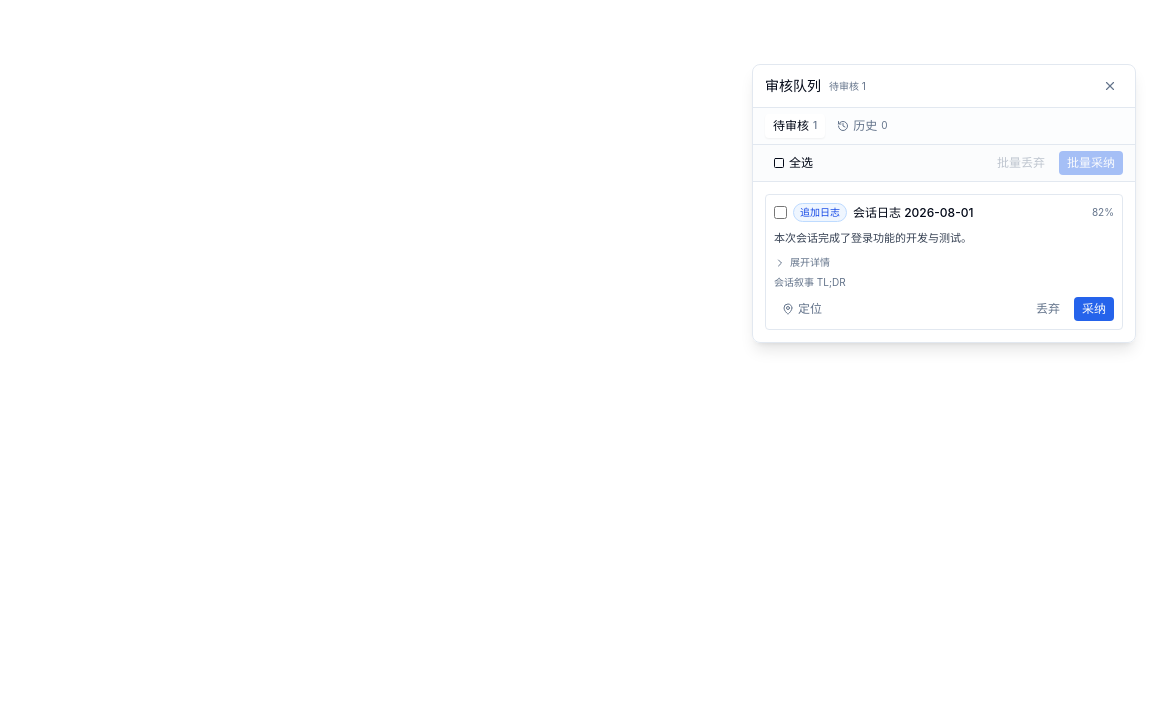
Test: WritebackPanel — preview & structured fields › expands to show details when 展开详情 clicked
Expected: the text "细节内容" is not shown
Click the button "展开详情".
click(802, 263)  # box [774, 256, 830, 270]
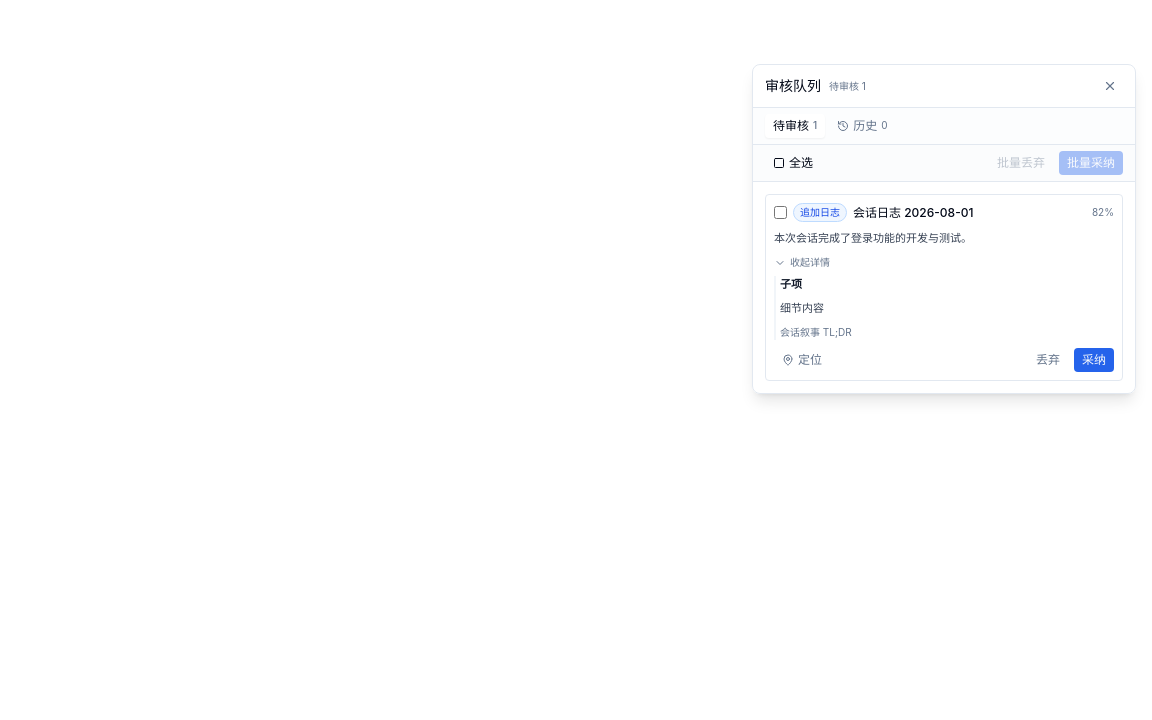
Expected: the heading "子项" is shown, [780, 276, 802, 290]
Expected: the text "细节内容" is shown, [780, 301, 824, 315]
